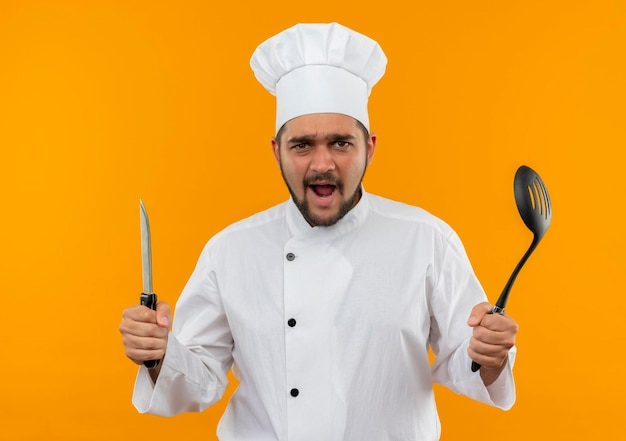knife: (136, 196, 160, 311)
